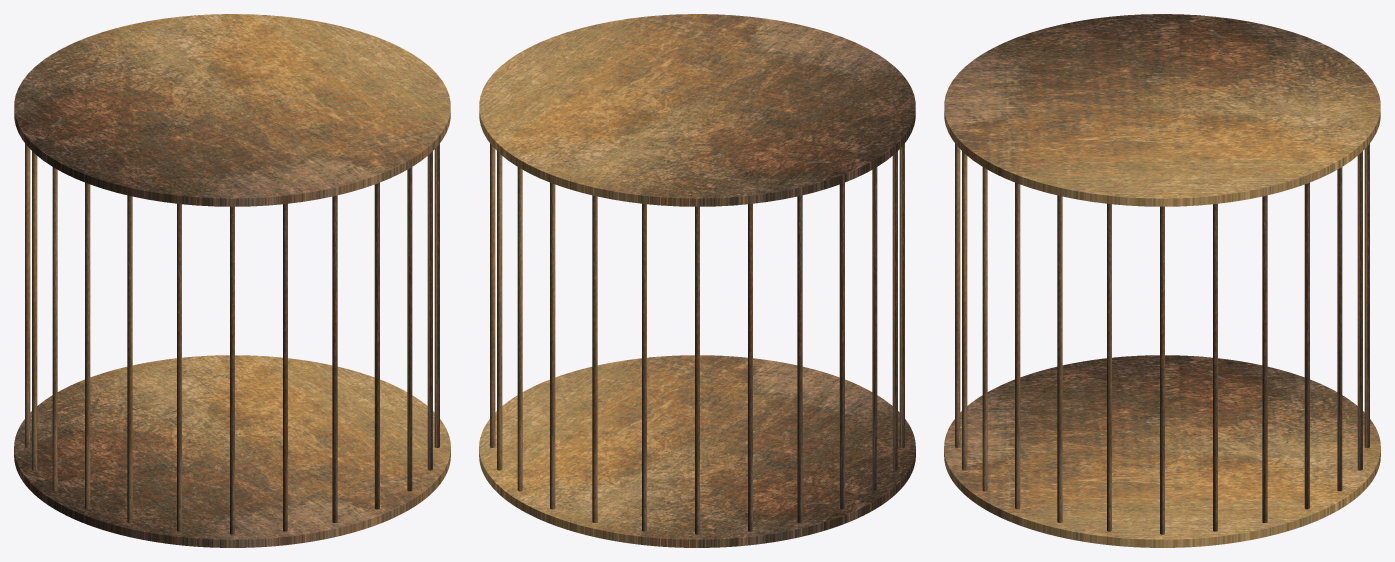
The model's file is cage.glb.
3 renders of one model, left to right at view 1: azimuth 30°, elevation 25°; view 2: azimuth 150°, elevation 25°; view 3: azimuth 270°, elevation 25°, orthographic.
Parts seen in each view (by area): view 1: Cylinder_1, 圆柱体, 圆柱体_12, 圆柱体_16, 圆柱体_11, 圆柱体_17, 圆柱体_10, 圆柱体_18, 圆柱体_19, 圆柱体_9, 圆柱体_20, 圆柱体_8 (+3 smaller); view 2: Cylinder_1, 圆柱体, 圆柱体_0, 圆柱体_20, 圆柱体_1, 圆柱体_19, 圆柱体_18, 圆柱体_2, 圆柱体_17, 圆柱体_3, 圆柱体_16, 圆柱体_4 (+3 smaller); view 3: Cylinder_1, 圆柱体, 圆柱体_4, 圆柱体_8, 圆柱体_3, 圆柱体_9, 圆柱体_10, 圆柱体_2, 圆柱体_1, 圆柱体_11, 圆柱体_0, 圆柱体_12 (+3 smaller).
Part boxes in pixels (x1,y1,x2,y2): Cylinder_1: (14,14,450,206); 圆柱体: (14,355,450,547); 圆柱体_12: (332,195,337,522); 圆柱体_16: (127,195,132,522); 圆柱体_11: (374,182,379,509); 圆柱体_17: (85,182,90,509); 圆柱体_10: (407,167,412,491); 圆柱体_18: (52,167,57,491); 圆柱体_19: (32,151,37,470); 圆柱体_9: (427,151,432,470); 圆柱体_20: (25,143,30,447); 圆柱体_8: (434,143,439,447); Cylinder_1: (479,14,915,206); 圆柱体: (479,355,915,547); 圆柱体_0: (592,195,597,522); 圆柱体_20: (797,195,802,522); 圆柱体_1: (550,182,555,509); 圆柱体_19: (839,182,844,509); 圆柱体_18: (872,167,877,491); 圆柱体_2: (517,167,522,491); 圆柱体_17: (892,151,897,470); 圆柱体_3: (497,151,502,470); 圆柱体_16: (899,143,904,447); 圆柱体_4: (490,143,495,447); Cylinder_1: (944,14,1380,206); 圆柱体: (944,355,1380,547); 圆柱体_4: (1262,195,1267,522); 圆柱体_8: (1057,195,1062,522); 圆柱体_3: (1304,182,1309,509); 圆柱体_9: (1015,182,1020,509); 圆柱体_10: (982,167,987,491); 圆柱体_2: (1337,167,1342,491); 圆柱体_1: (1357,151,1362,470); 圆柱体_11: (962,151,967,470); 圆柱体_0: (1364,143,1369,447); 圆柱体_12: (955,143,960,447).
Bounding box in the file's own units: 6.46 × 5.71 × 6.46.
Materials: 1 (1 with a texture image).
